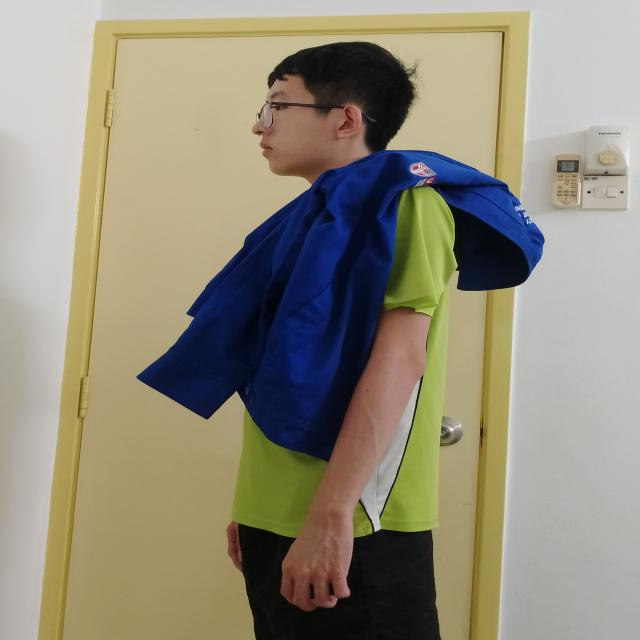person_without_labcoat: (137, 42, 544, 640)
